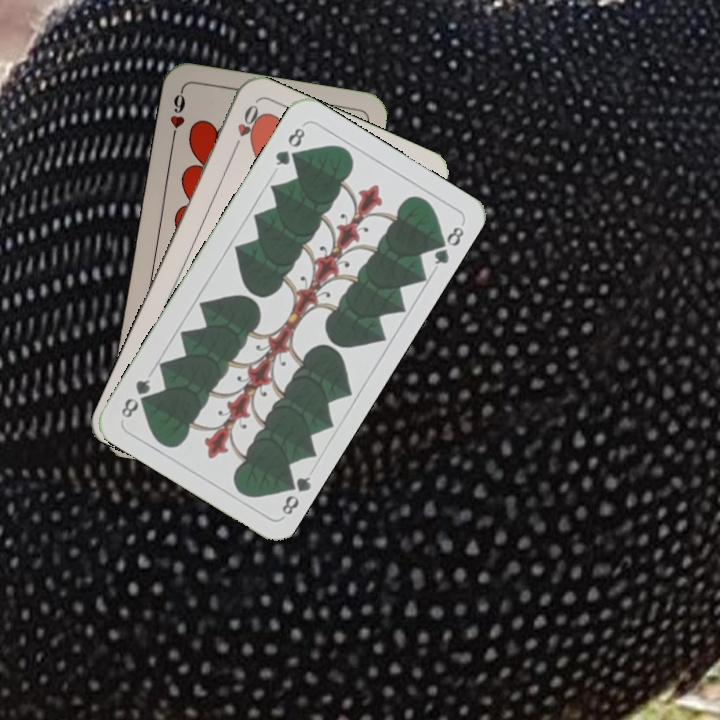G8: (277, 471, 314, 518), (271, 123, 308, 169)
H9: (166, 86, 188, 145)
HO: (229, 100, 263, 155)
